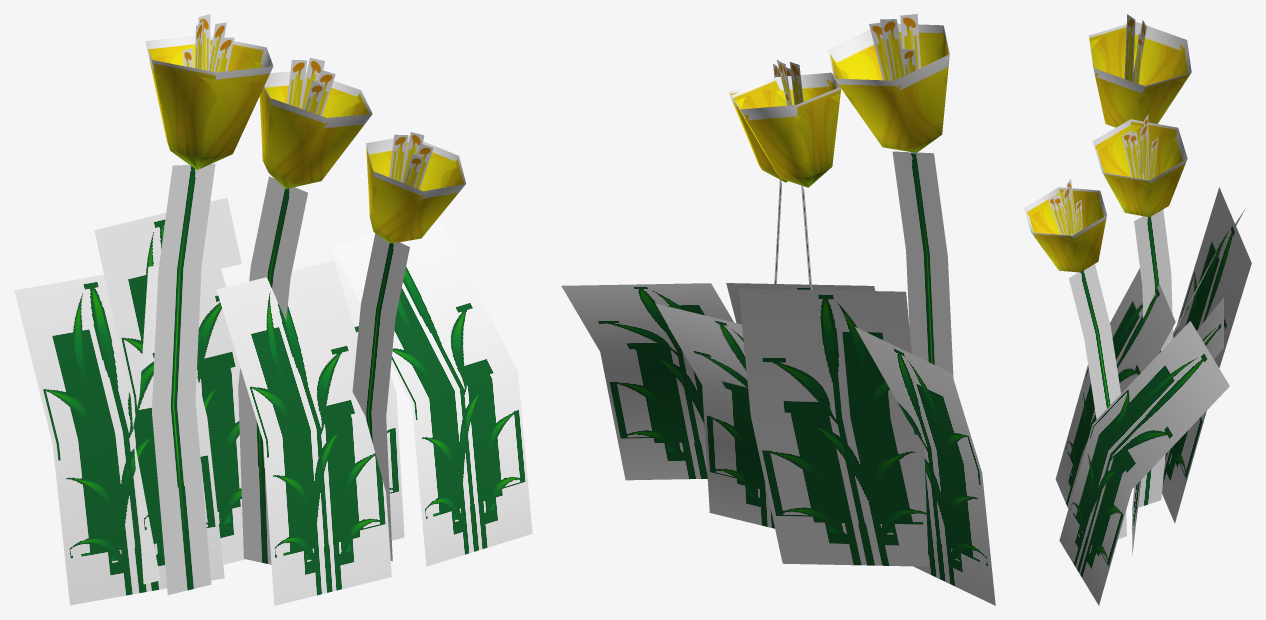
The model's file is Flower_06b.FBX.
The picture shows the model from 3 angles, left to right: view 1: azimuth 30°, elevation 25°; view 2: azimuth 150°, elevation 25°; view 3: azimuth 270°, elevation 25°; orthographic projection. The views are drawn at different scales.
Parts seen in each view (by area): view 1: Flower_06b; view 2: Flower_06b; view 3: Flower_06b.
Boxes of the visible parts, <box> form: Flower_06b: <box>14,14,532,605</box>; Flower_06b: <box>561,14,995,605</box>; Flower_06b: <box>1024,14,1251,605</box>.
Bounding box in the file's own units: 29.94 × 37.88 × 16.77.
